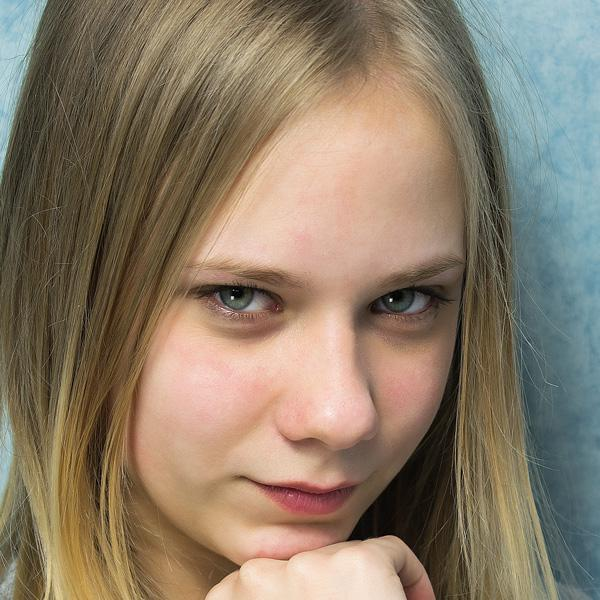Eyes: (178, 272, 293, 332), (352, 274, 460, 329)
